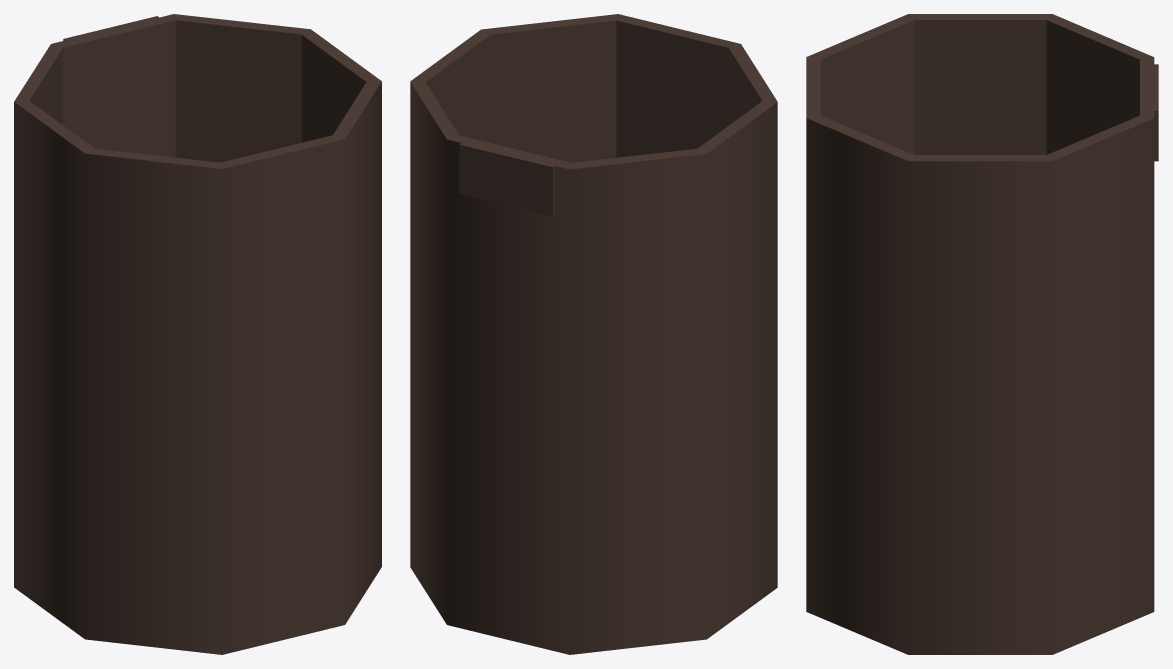
Rendered from Itr_Trashcan4_Body_06.FBX.
3 views of the same model, side by side, from view 1: azimuth 30°, elevation 25°; view 2: azimuth 150°, elevation 25°; view 3: azimuth 270°, elevation 25° (orthographic).
Parts seen in each view (by area): view 1: Itr_Trashcan4_Body_06; view 2: Itr_Trashcan4_Body_06; view 3: Itr_Trashcan4_Body_06.
Boxes of the visible parts, x1,y1,x2,y2 form: Itr_Trashcan4_Body_06: [14, 14, 381, 654]; Itr_Trashcan4_Body_06: [410, 14, 777, 654]; Itr_Trashcan4_Body_06: [806, 14, 1158, 654].
Bounding box in the file's own units: 12.01 × 18.79 × 12.15.
